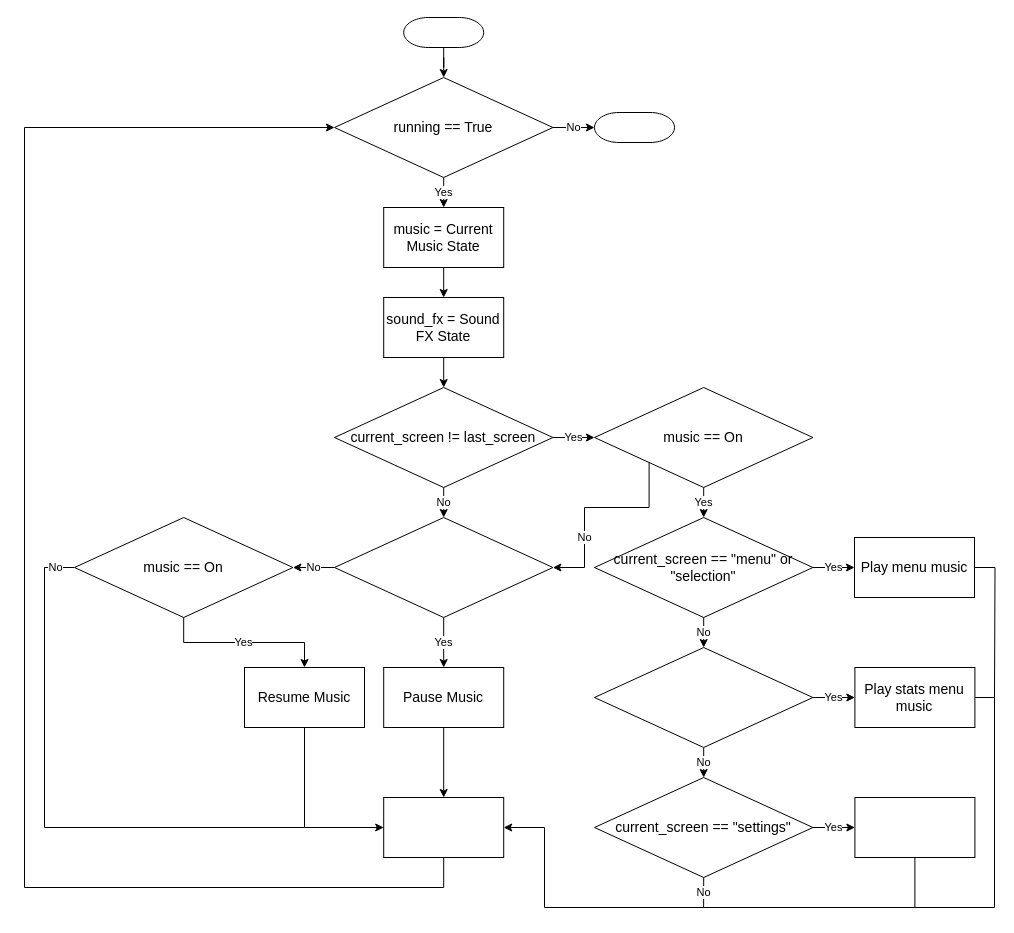
This 1014x933 diagram has some shape labels left out. The shapes that lost their labels are listed below. From the top down, each one's box as (x1, y1, x2, y2) in pixels, then its label:
(403, 16, 484, 48): Start
(594, 112, 674, 142): End
(334, 516, 553, 618): current_screen == "game"
(594, 646, 813, 748): current_screen == "stats"
(383, 796, 504, 858): last_screen = current_screen
(854, 796, 975, 858): Play settings menu music
